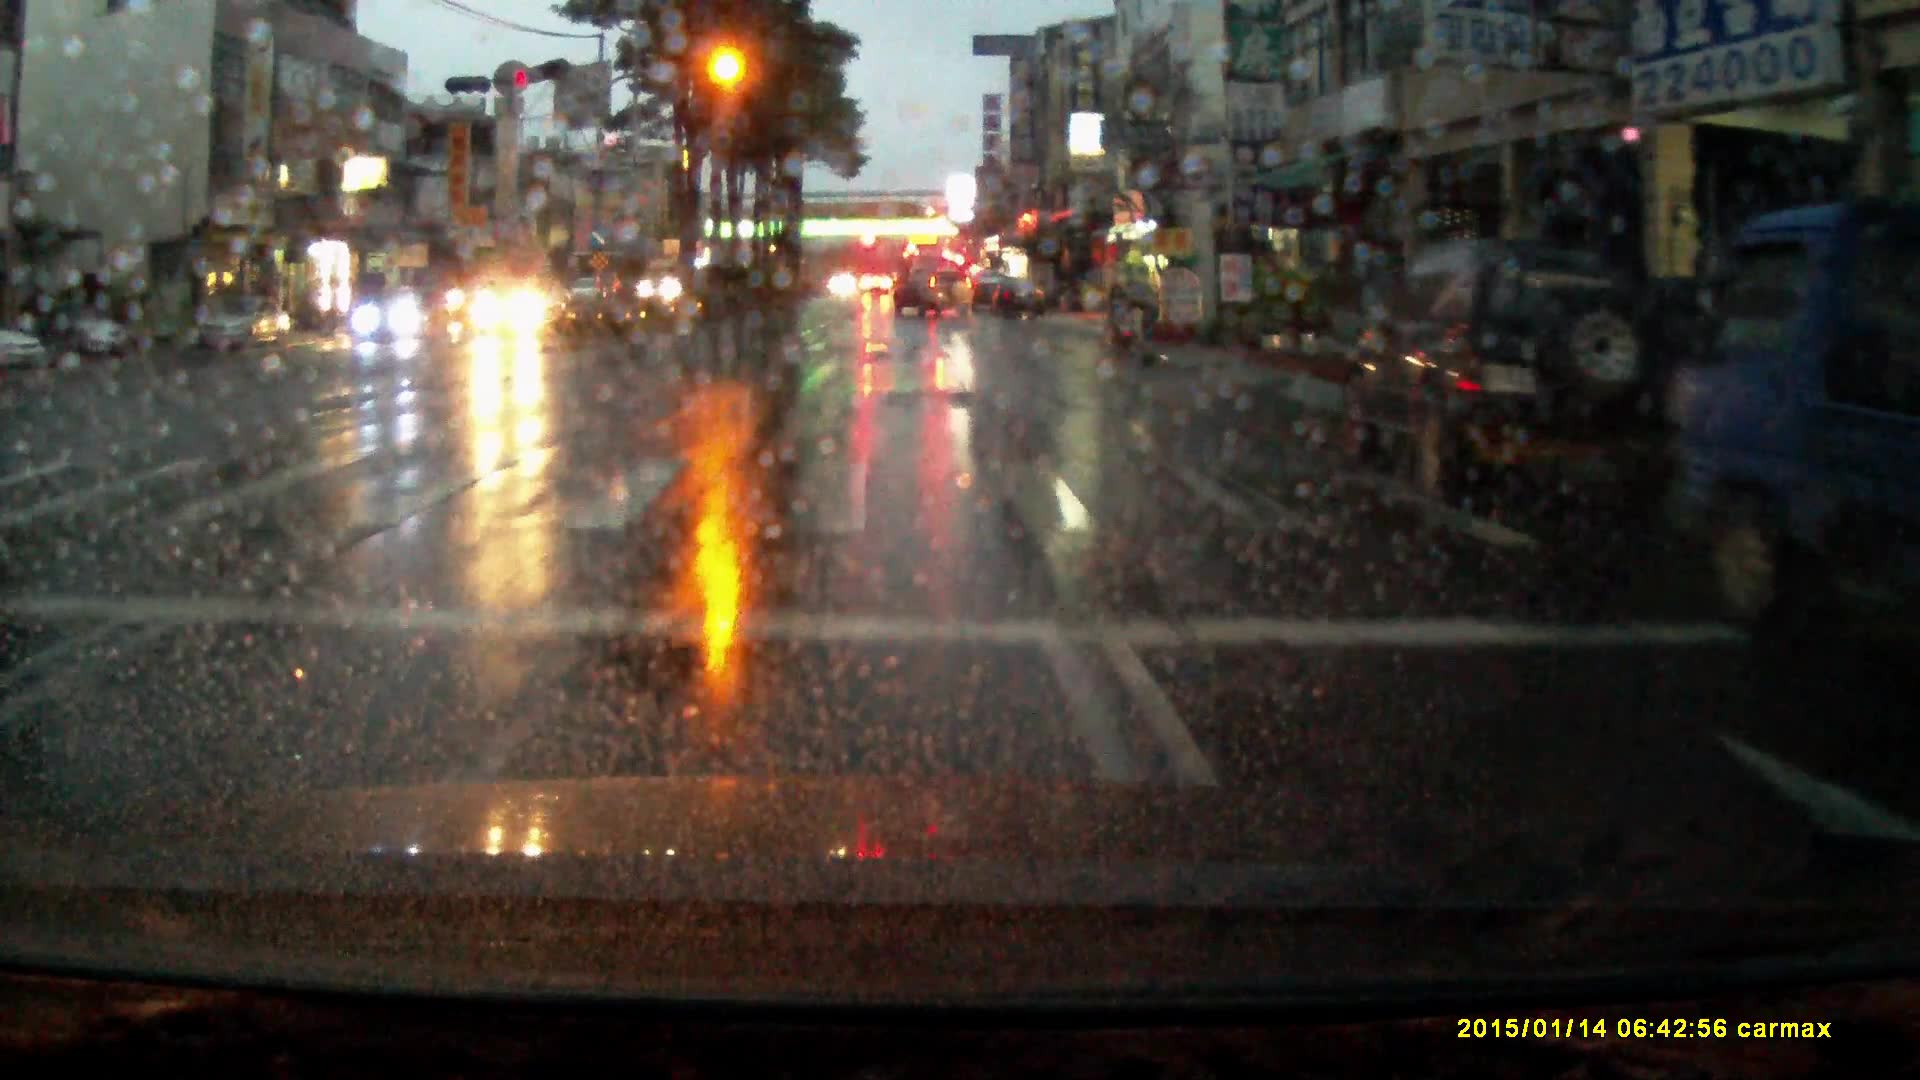vehicle: (1652, 207, 1920, 650), (1338, 245, 1697, 491), (193, 295, 294, 361), (473, 276, 575, 334), (357, 287, 448, 347), (893, 269, 975, 322), (61, 305, 131, 357), (899, 244, 948, 305), (992, 277, 1046, 320), (1, 328, 47, 368), (567, 278, 611, 309), (975, 272, 1005, 313), (860, 272, 895, 301)
